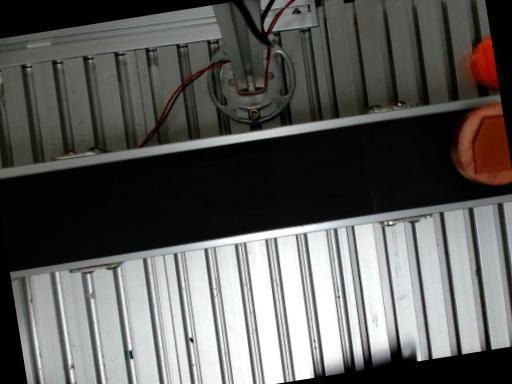Brown_Waper: (450, 103, 512, 185)
